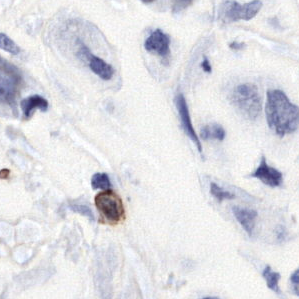Lymphocyte: (95, 191, 128, 222)
